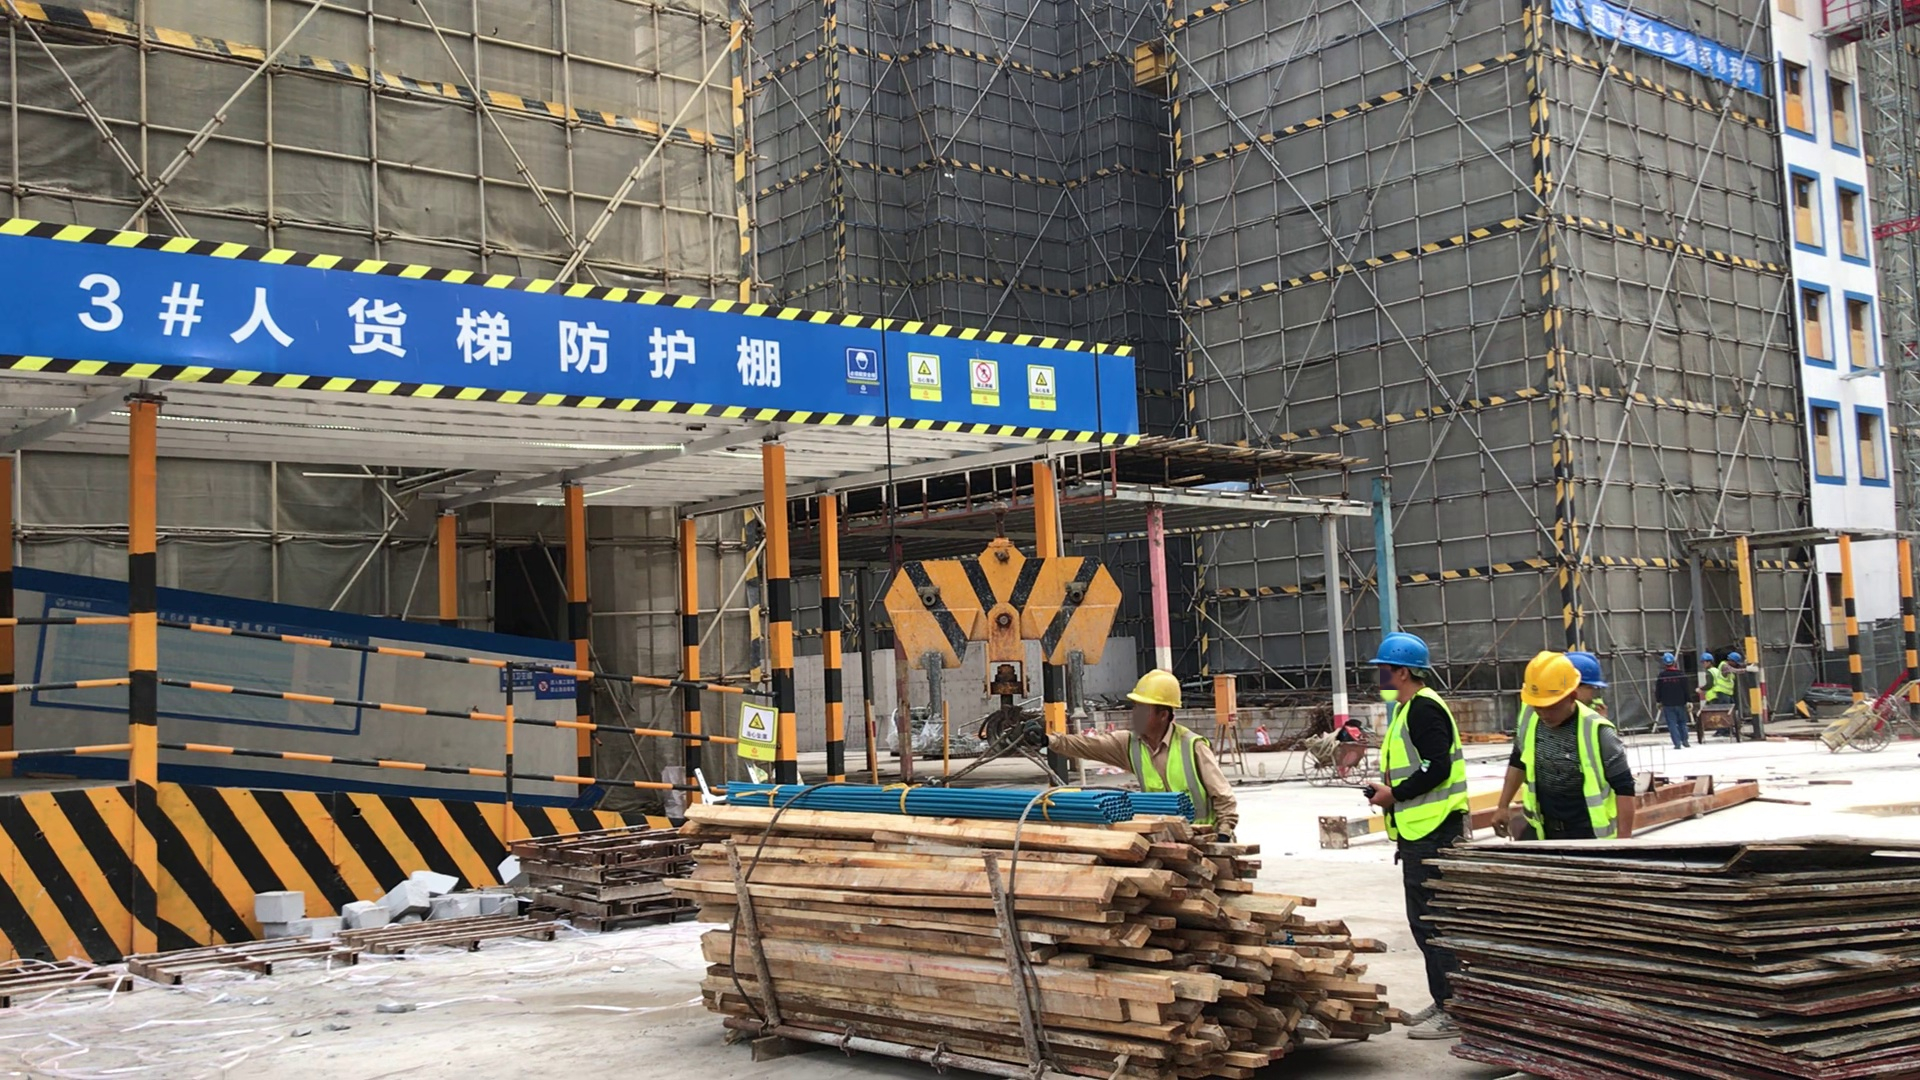board: (1418, 827, 1920, 1079)
handcart: (1808, 691, 1911, 756)
helmet: (1515, 654, 1571, 703), (1129, 665, 1184, 708), (1369, 631, 1430, 670), (1568, 652, 1607, 688), (1727, 651, 1743, 664), (1660, 652, 1675, 663), (1699, 652, 1714, 662)
hook: (879, 532, 1125, 683)
person: (1360, 631, 1489, 1045), (1029, 662, 1245, 836), (1495, 641, 1651, 854), (1651, 650, 1694, 748), (1565, 654, 1621, 724), (1718, 650, 1749, 702), (1694, 651, 1721, 710)
slogan: (1553, 1, 1773, 98)
vest: (1517, 705, 1611, 838), (1379, 692, 1465, 835), (1128, 725, 1201, 815), (1720, 663, 1735, 694), (1703, 667, 1716, 702)
wood: (692, 804, 1401, 1080)
